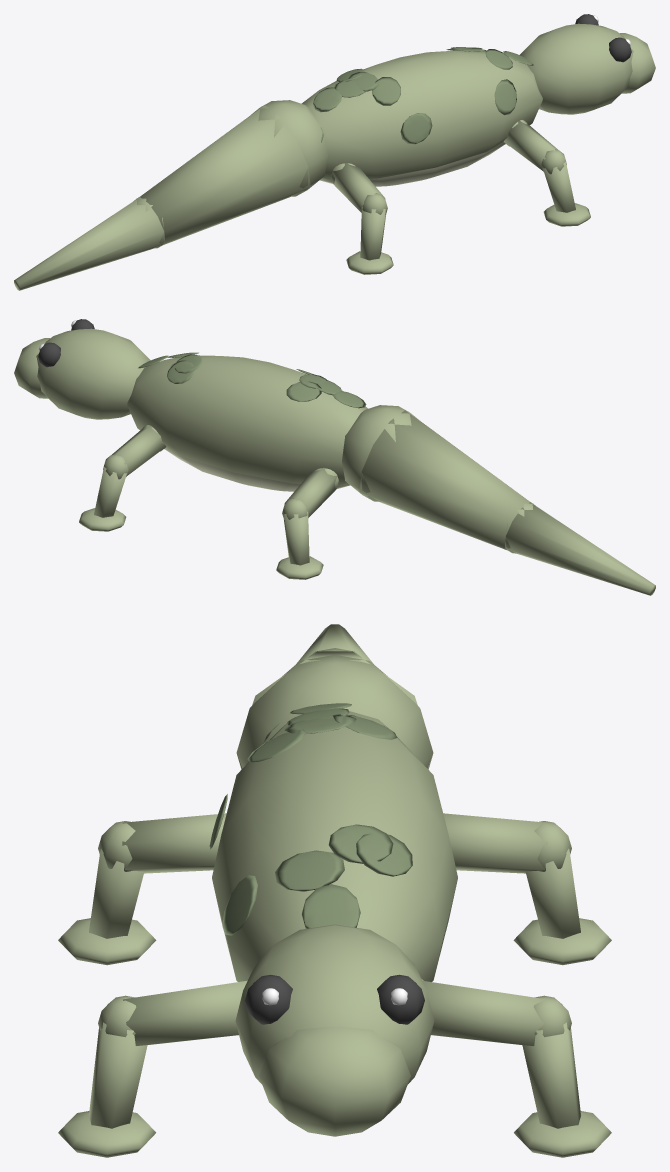
Rendered from solomon-islands-skink.glb.
3 views of the same model, one above another, from view 1: azimuth 30°, elevation 25°; view 2: azimuth 150°, elevation 25°; view 3: azimuth 270°, elevation 25° (orthographic). The views are drawn at different scales.
Parts seen in each view (by area): view 1: e, e.020, e.014, e.033, e.023; view 2: e, e.020, e.014, e.038, e.028; view 3: e, e.014, e.023, e.028, e.038, e.033, e.020.
Part boxes in pixels (bbox=[...]): e: bbox=[301, 47, 542, 186]; e.020: bbox=[14, 100, 327, 290]; e.014: bbox=[520, 14, 655, 114]; e.033: bbox=[331, 163, 393, 274]; e.023: bbox=[503, 120, 590, 226]; e: bbox=[127, 352, 368, 491]; e.020: bbox=[342, 405, 655, 595]; e.014: bbox=[14, 319, 150, 419]; e.038: bbox=[276, 468, 338, 579]; e.028: bbox=[79, 425, 166, 531]; e: bbox=[209, 703, 457, 981]; e.014: bbox=[235, 924, 434, 1136]; e.023: bbox=[58, 979, 248, 1157]; e.028: bbox=[421, 979, 611, 1157]; e.038: bbox=[443, 813, 611, 965]; e.033: bbox=[58, 813, 226, 965]; e.020: bbox=[236, 624, 433, 769].
Size of the model in its own units: 1 by 0.2181 by 0.378.
